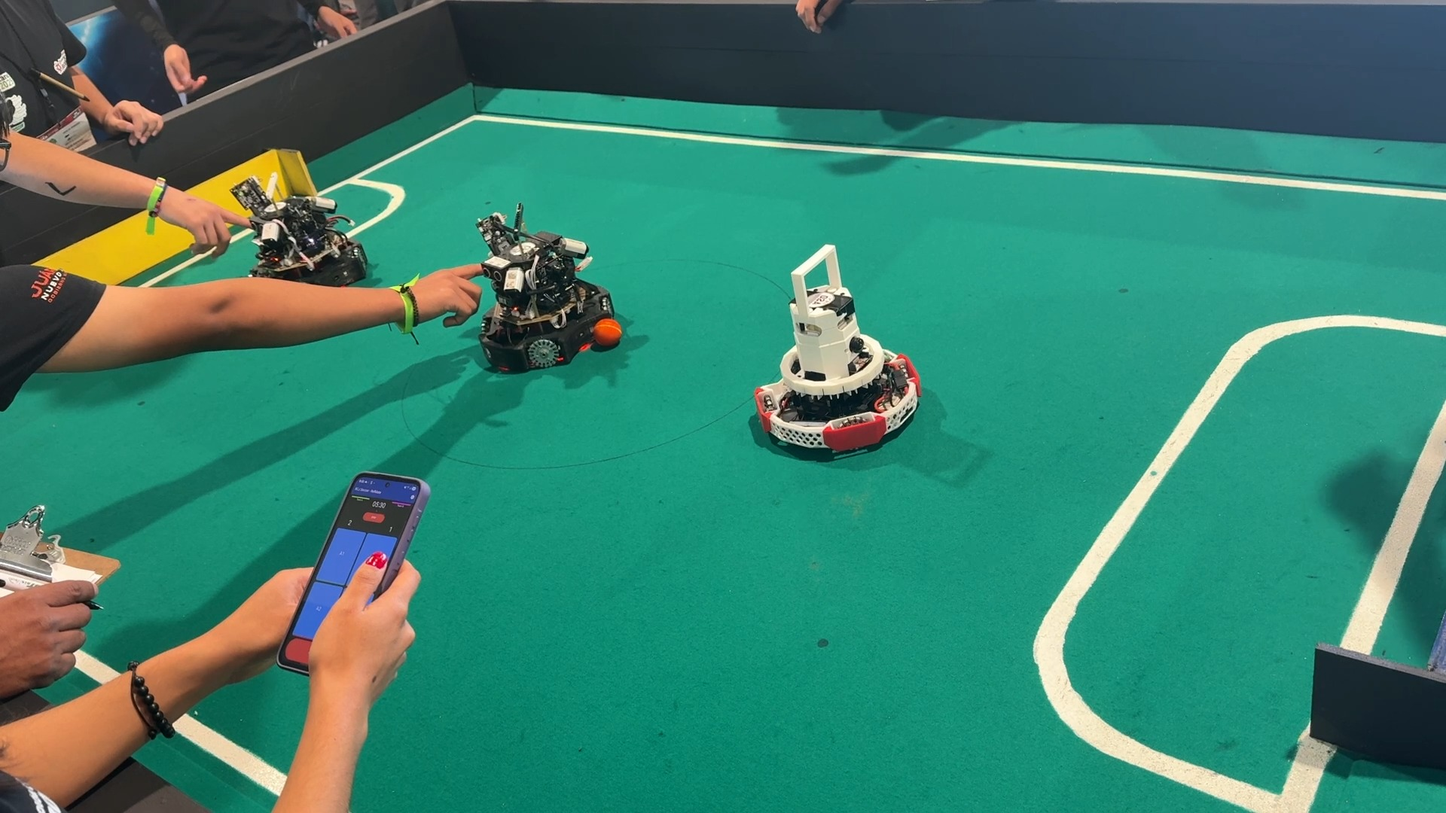Robot: (744, 235, 932, 475), (459, 201, 630, 389), (222, 153, 388, 338)
pelota: (592, 306, 628, 354)
